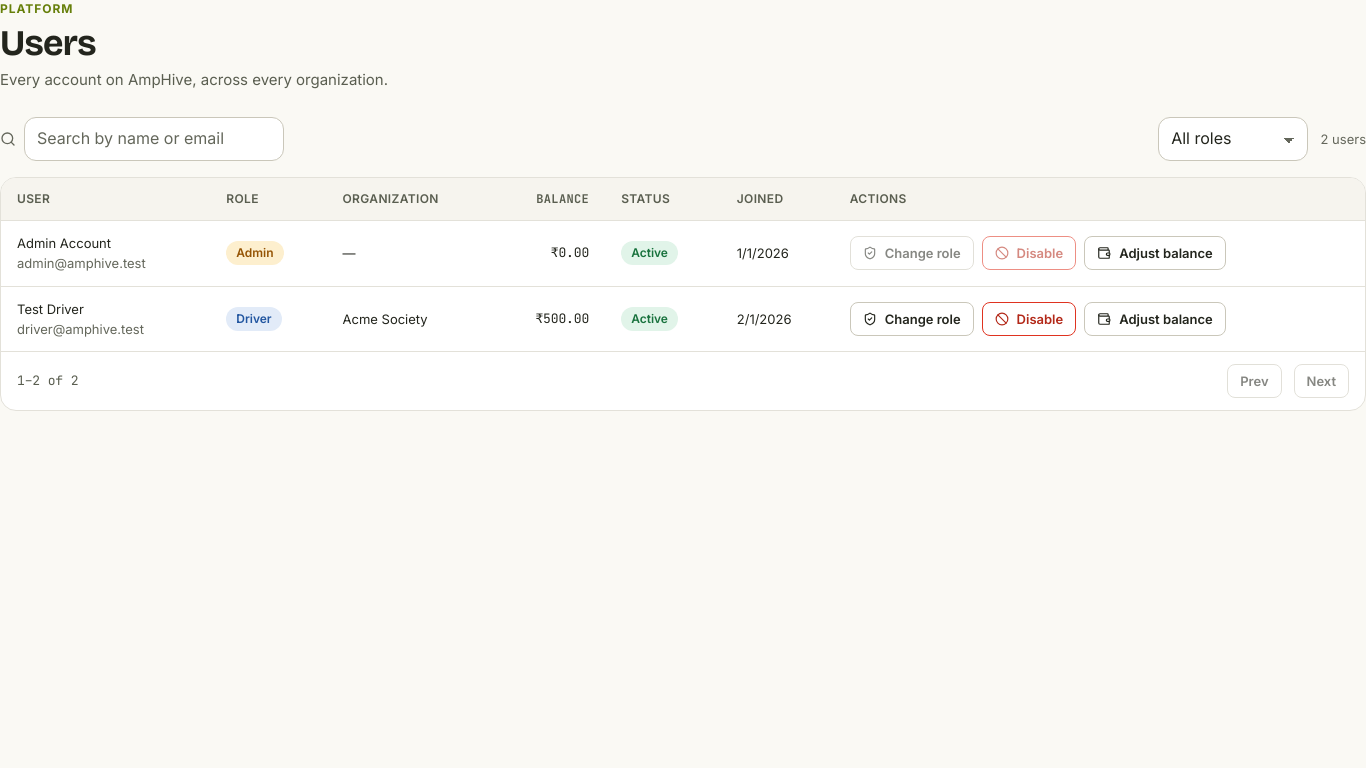
it: change role › opens a picker excluding the current role and patches on confirm
This screenshot has width=1366, height=768.
Check: the text "driver@amphive.test" is shown, box [17,321,144,337]
Click the button "Change role" in the row of "driver@amphive.test": {"x": 912, "y": 319} [850,302,974,336]
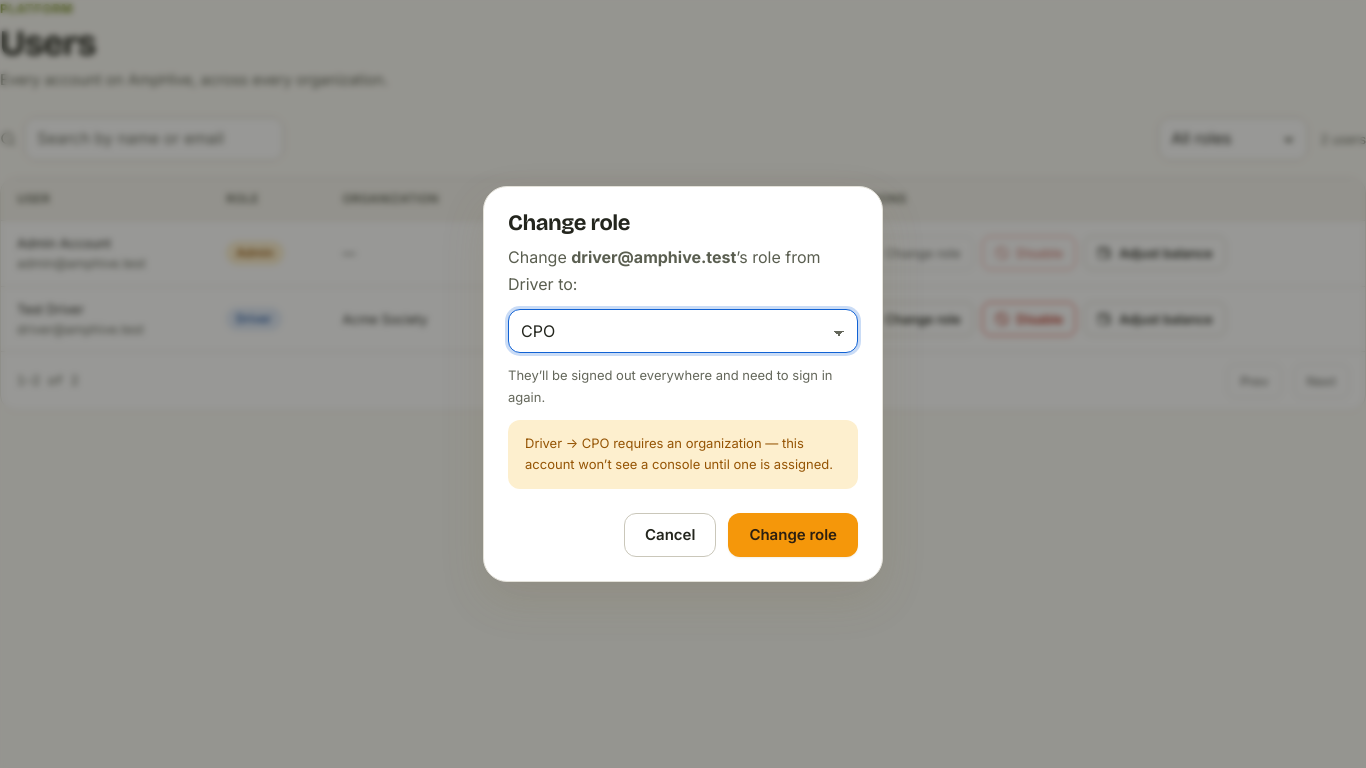
Select "CPO" in the dropdown named "New role": {"x": 683, "y": 331} [508,309,858,353]
Check: the text "Driver → CPO requires an organization" is shown, box [525,435,833,472]
Click the button "Change role": {"x": 793, "y": 535} [728,513,858,557]
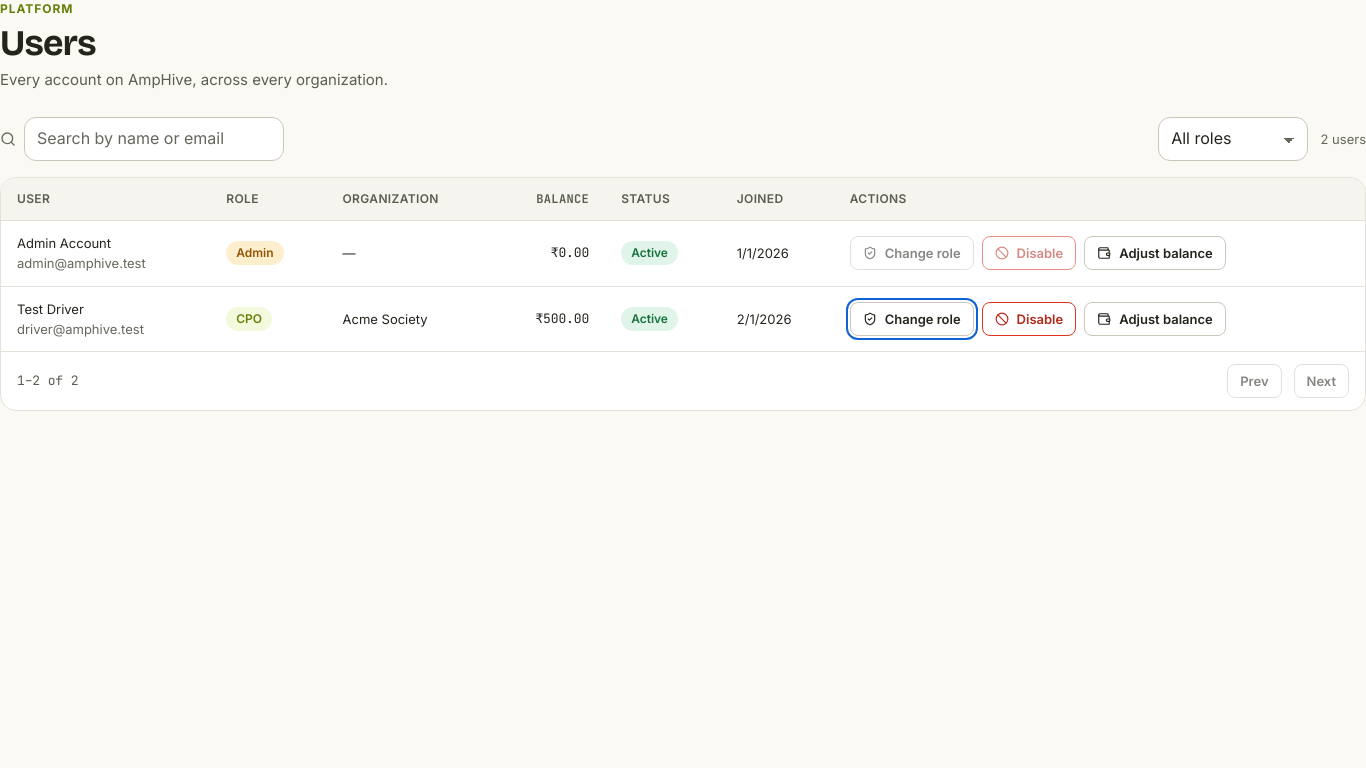
Check: the dialog is gone
